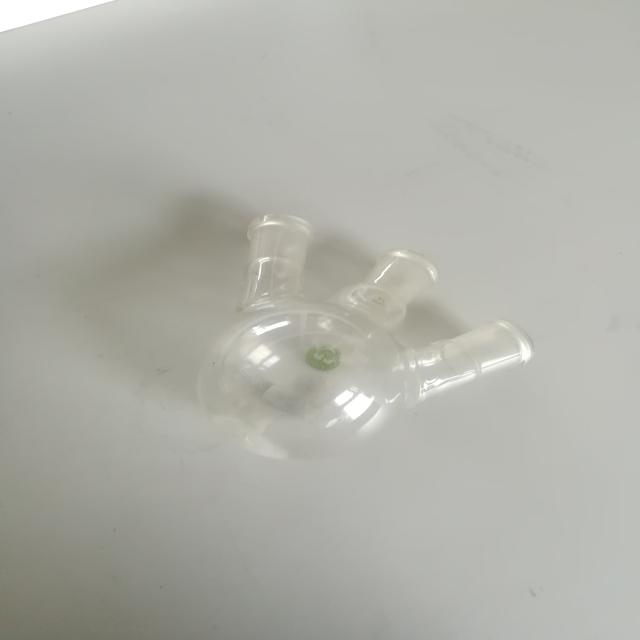Round_Bottom_Flask_Borosilicate_Glass_3_Neck: (153, 161, 547, 510)
